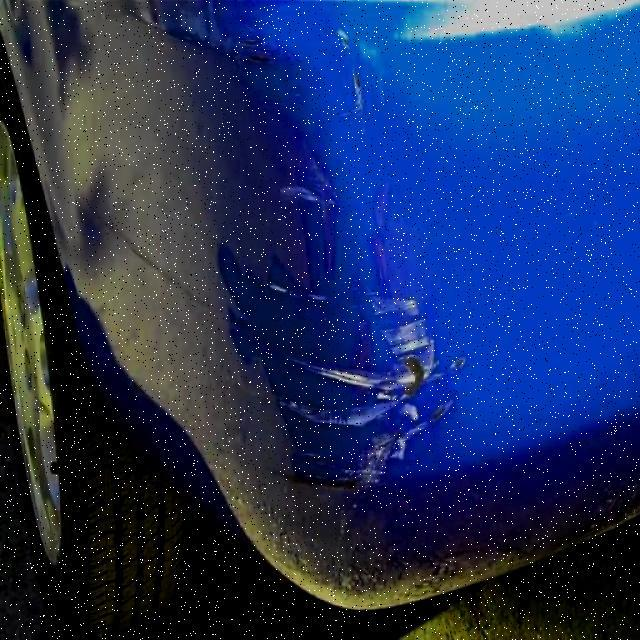car damage: (222, 20, 466, 499)
